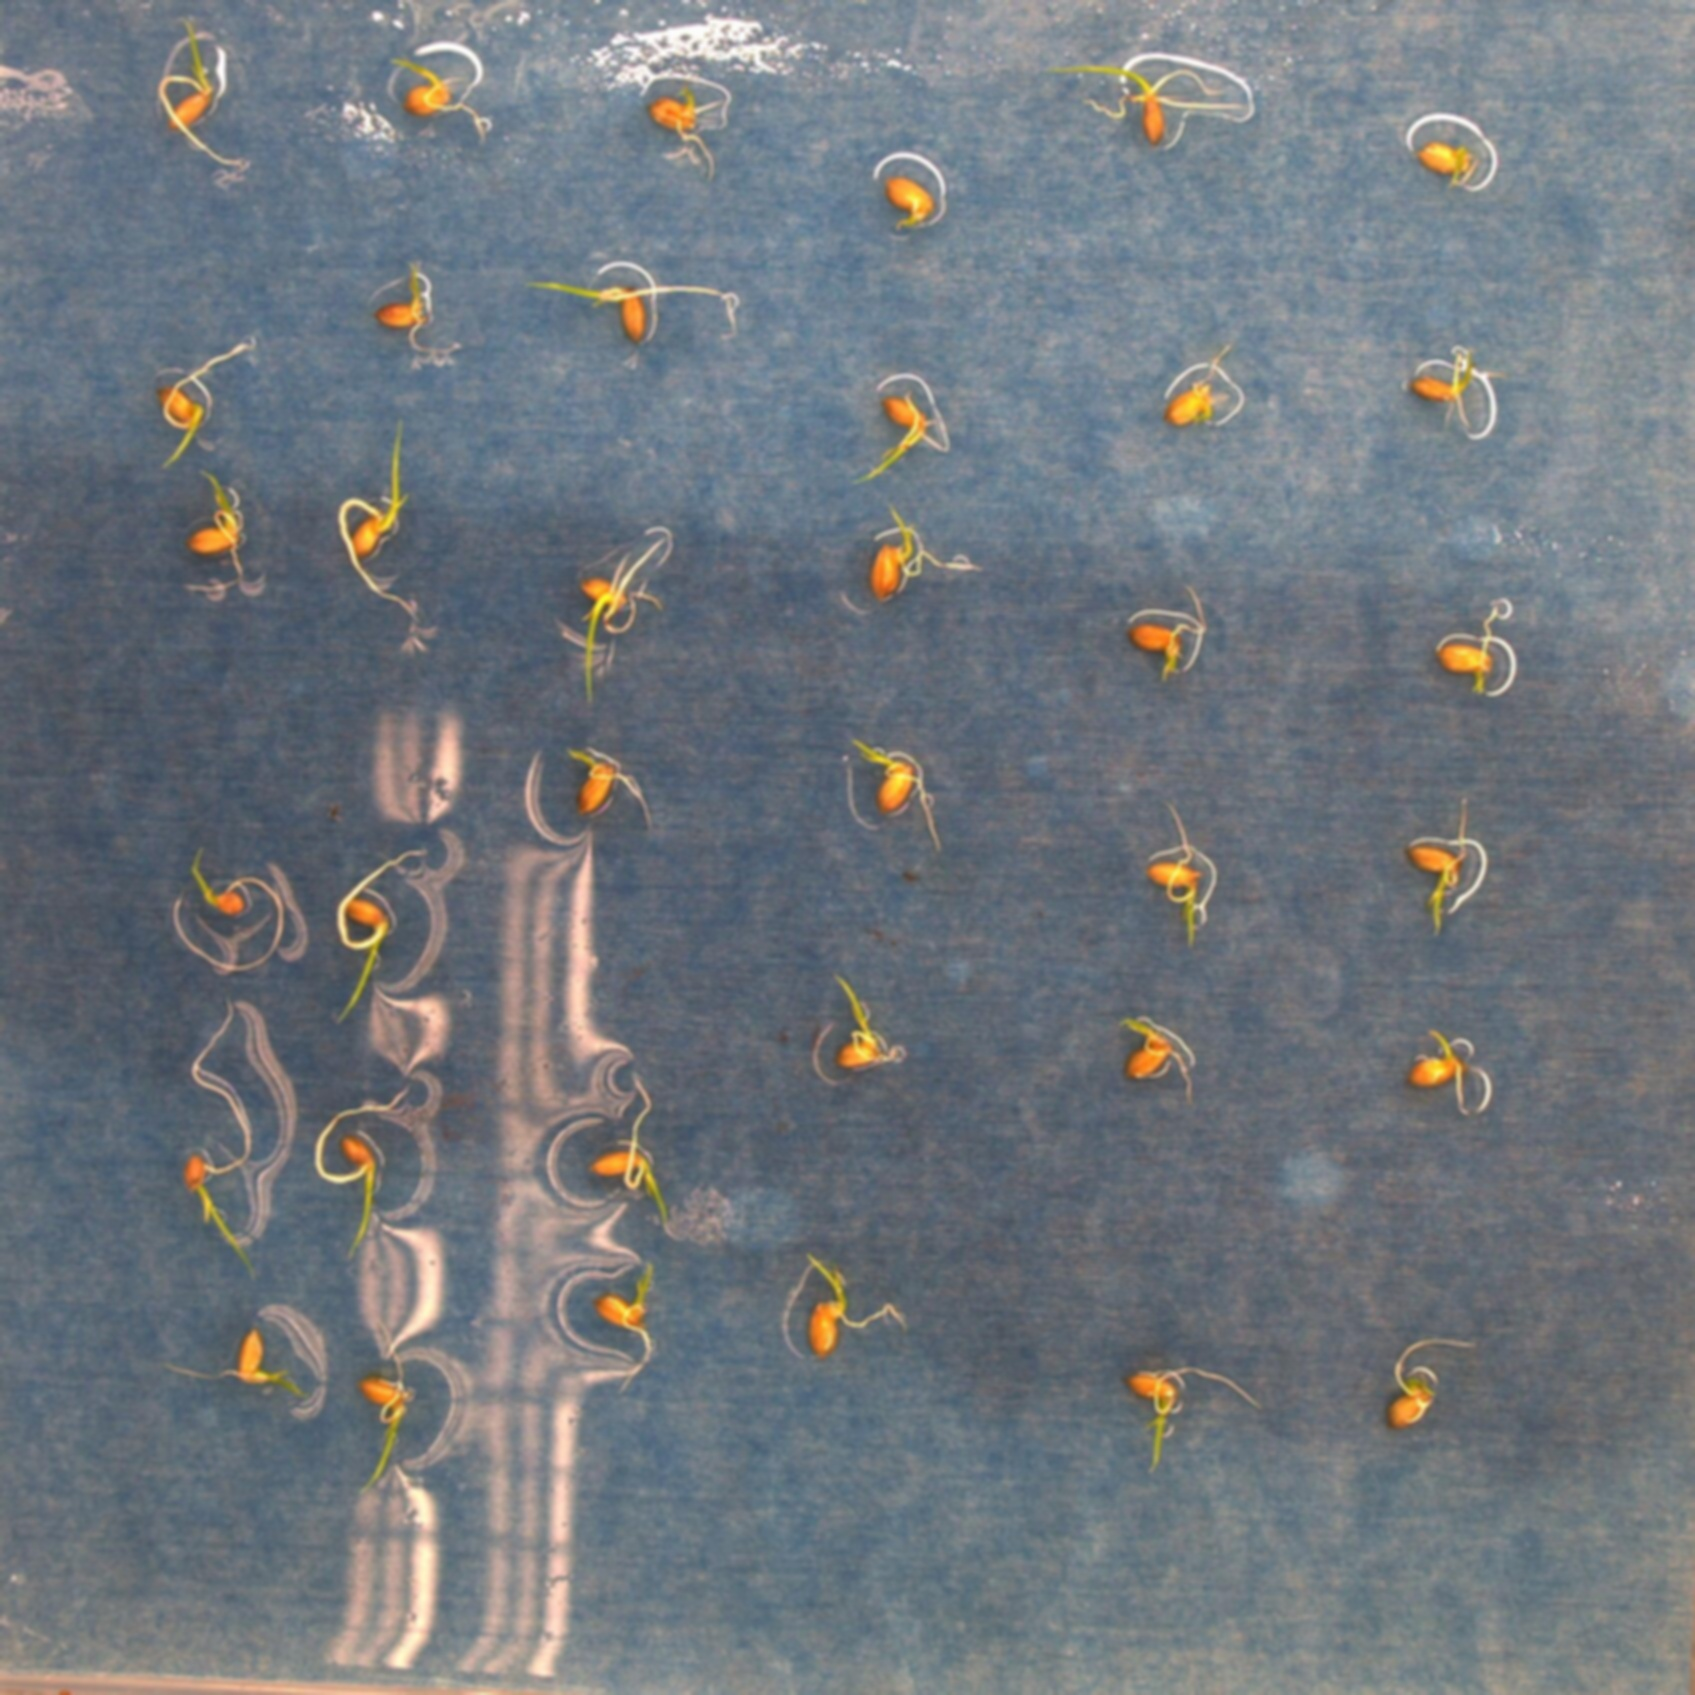not sprout: (1386, 1333, 1479, 1426), (1434, 598, 1509, 695)
sprout: (182, 995, 265, 1281), (556, 536, 664, 706), (334, 421, 424, 624), (314, 1080, 413, 1259), (525, 272, 744, 348), (332, 847, 425, 1026), (585, 1068, 681, 1236), (1045, 64, 1248, 141), (1125, 1361, 1267, 1471), (165, 846, 284, 969), (154, 335, 255, 480), (157, 17, 248, 172), (795, 1250, 908, 1360), (849, 736, 948, 854), (866, 506, 983, 604), (163, 1329, 310, 1402), (357, 1315, 414, 1501), (1144, 798, 1215, 947), (1405, 795, 1476, 942), (388, 53, 494, 147), (591, 1263, 664, 1395), (855, 390, 945, 487), (376, 258, 466, 354), (827, 975, 914, 1071), (1125, 585, 1208, 683), (1107, 1014, 1194, 1105), (646, 82, 723, 183), (563, 747, 657, 830), (186, 466, 247, 594), (1406, 348, 1503, 427), (1405, 1026, 1478, 1119), (1167, 334, 1236, 430), (879, 175, 934, 228), (1419, 141, 1482, 183)
